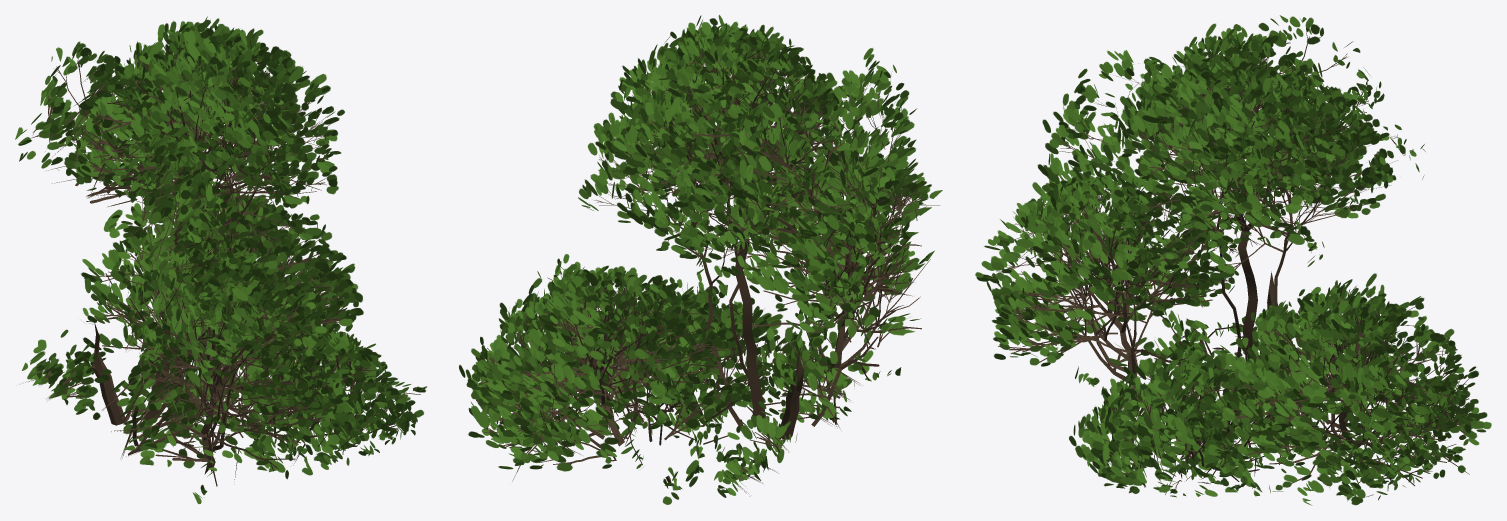
The picture shows the model from 3 angles, left to right: view 1: azimuth 30°, elevation 25°; view 2: azimuth 150°, elevation 25°; view 3: azimuth 270°, elevation 25°; orthographic projection. The views are drawn at different scales.
Parts seen in each view (by area): view 1: oak 01.001_trunk_Mat.001_0.417; view 2: oak 01.001_trunk_Mat.001_0.417; view 3: oak 01.001_trunk_Mat.001_0.417.
Boxes of the visible parts, x1,y1,x2,y2 form: oak 01.001_trunk_Mat.001_0.417: (15,16,427,503); oak 01.001_trunk_Mat.001_0.417: (459,15,942,504); oak 01.001_trunk_Mat.001_0.417: (975,15,1491,505).
Bounding box in the file's own units: 4.13 × 5.1 × 5.98.
2 materials, 1 textured.
